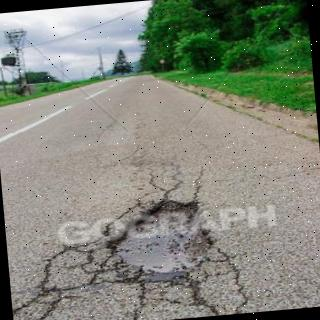pothole: (99, 199, 212, 281)
